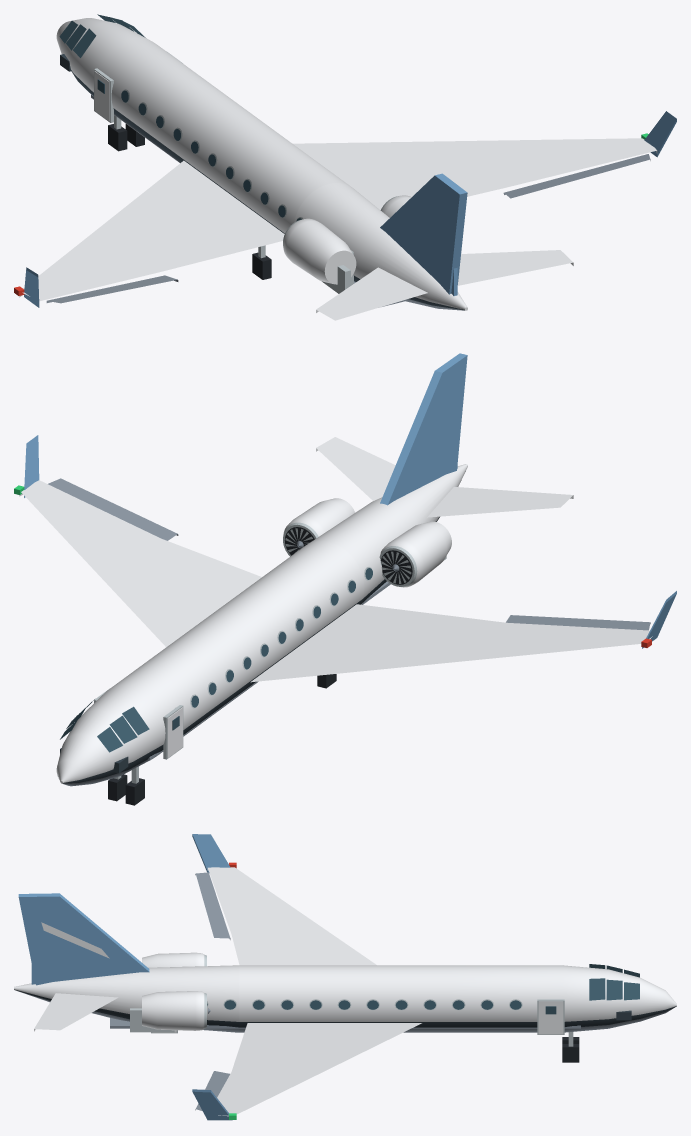
Rendered from vela.glb.
The picture shows the model from 3 angles, top to bottom: view 1: azimuth 30°, elevation 25°; view 2: azimuth 150°, elevation 25°; view 3: azimuth 270°, elevation 25°; orthographic projection. The views are drawn at different scales.
Parts seen in each view (by area): view 1: wing_l, wing_r, body_mid, body_front, body_aft, tail, elevator, engine_l, gear, cabin_windows, aileron_r, windshield (+2 smaller); view 2: wing_l, wing_r, body_front, body_mid, tail, body_aft, elevator, engine_l, engine_r, aileron_r, windshield, aileron_l (+3 smaller); view 3: body_mid, body_front, wing_r, wing_l, tail, body_aft, engine_r, elevator, cabin_windows, windshield, doors, aileron_l (+3 smaller).
Boxes of the visible parts, x1=… form: wing_l: x1=14, y1=160, x2=284, y2=307; wing_r: x1=293, y1=111, x2=676, y2=209; body_mid: x1=164, y1=88, x2=350, y2=233; body_front: x1=56, y1=18, x2=222, y2=157; body_aft: x1=294, y1=183, x2=467, y2=310; tail: x1=380, y1=173, x2=467, y2=294; elevator: x1=316, y1=250, x2=573, y2=320; engine_l: x1=283, y1=218, x2=356, y2=293; gear: x1=108, y1=115, x2=271, y2=279; cabin_windows: x1=109, y1=77, x2=303, y2=221; aileron_r: x1=503, y1=154, x2=650, y2=198; windshield: x1=59, y1=14, x2=145, y2=57; wing_l: x1=250, y1=591, x2=676, y2=682; wing_r: x1=14, y1=435, x2=261, y2=647; body_front: x1=56, y1=635, x2=234, y2=786; body_mid: x1=177, y1=541, x2=364, y2=705; tail: x1=380, y1=353, x2=467, y2=505; body_aft: x1=309, y1=464, x2=467, y2=604; elevator: x1=316, y1=437, x2=573, y2=517; engine_l: x1=379, y1=521, x2=451, y2=587; engine_r: x1=283, y1=498, x2=355, y2=556; aileron_r: x1=48, y1=478, x2=178, y2=540; windshield: x1=60, y1=699, x2=149, y2=752; aileron_l: x1=506, y1=615, x2=650, y2=630; body_mid: x1=239, y1=965, x2=451, y2=1032; body_front: x1=451, y1=965, x2=676, y2=1032; wing_r: x1=192, y1=1023, x2=421, y2=1120; wing_l: x1=192, y1=834, x2=376, y2=965; tail: x1=18, y1=893, x2=149, y2=985; body_aft: x1=14, y1=965, x2=239, y2=1032; engine_r: x1=130, y1=991, x2=210, y2=1032; elevator: x1=34, y1=993, x2=118, y2=1031; cabin_windows: x1=207, y1=999, x2=522, y2=1010; windshield: x1=589, y1=964, x2=639, y2=1000; doors: x1=151, y1=999, x2=564, y2=1034; aileron_l: x1=195, y1=872, x2=230, y2=939.
Size of the model in its own units: 17.34 by 5.14 by 19.
